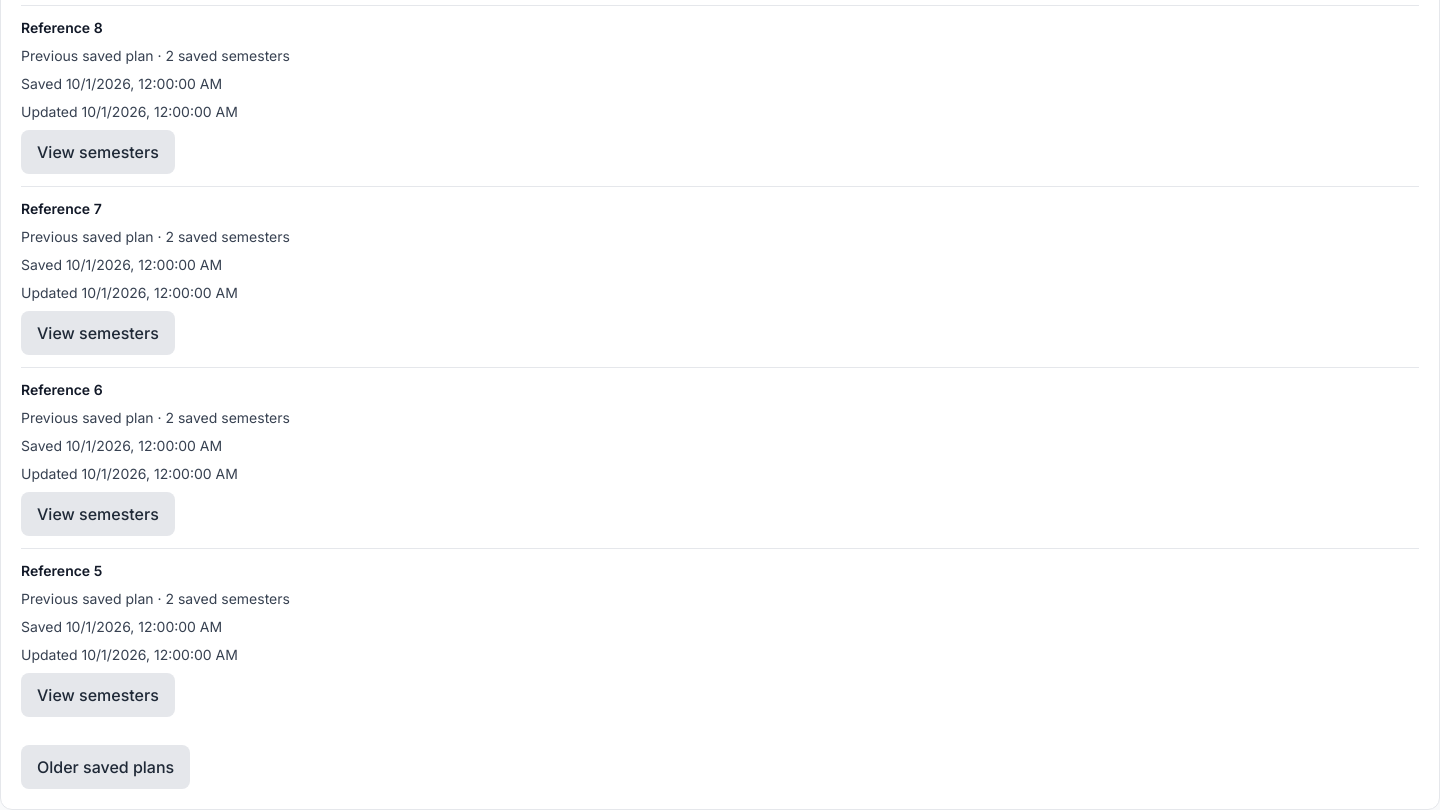
Test: saved study plan reference browser › rejects a mismatched continuation scope from an adapter
The width and height of the screenshot is (1440, 810).
(page scrolled)
Click the button "Older saved plans".
click(106, 767)  # box [21, 745, 190, 789]
(page scrolled)
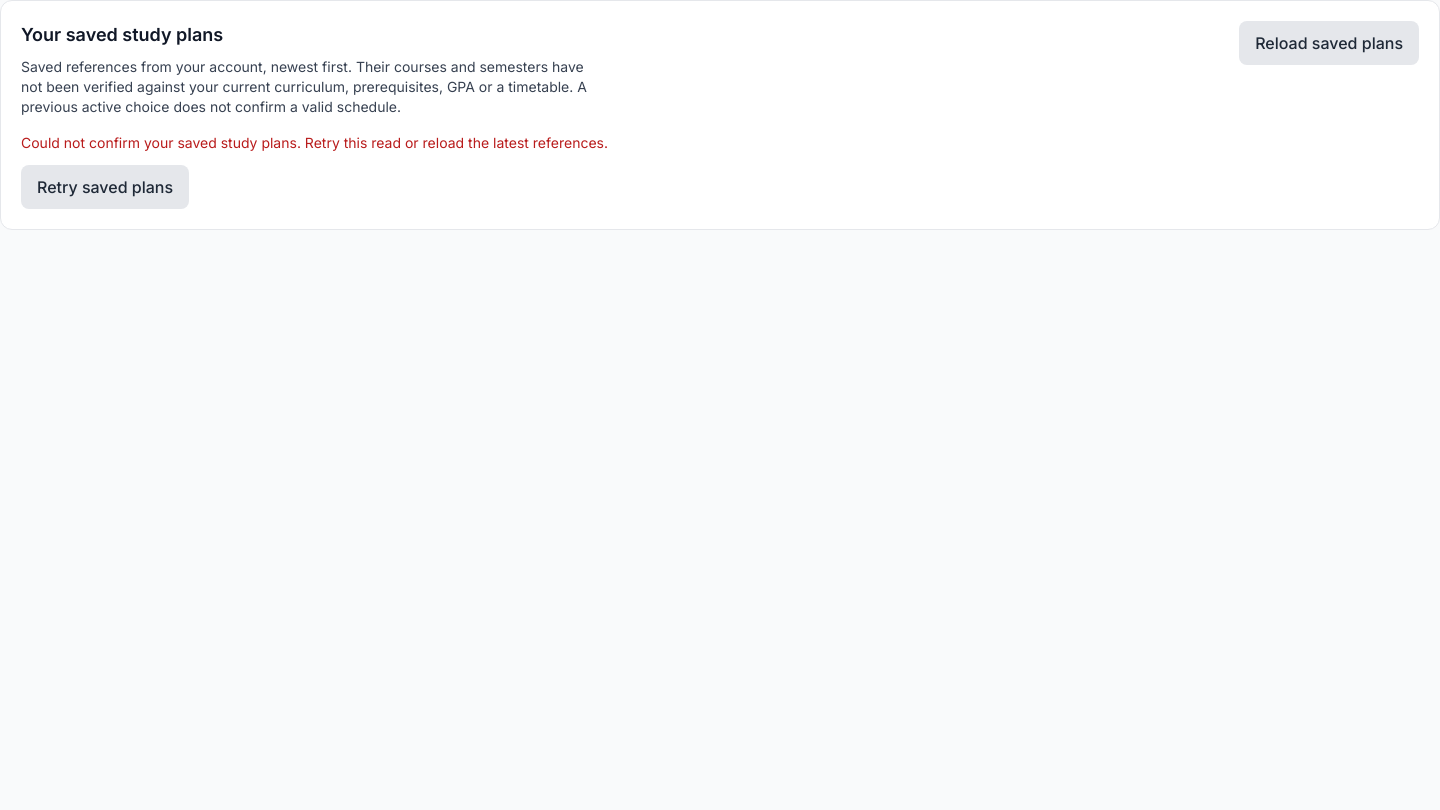
Now the message is shown, box [21, 134, 608, 151]
Now the heading "Reference 6" is gone
